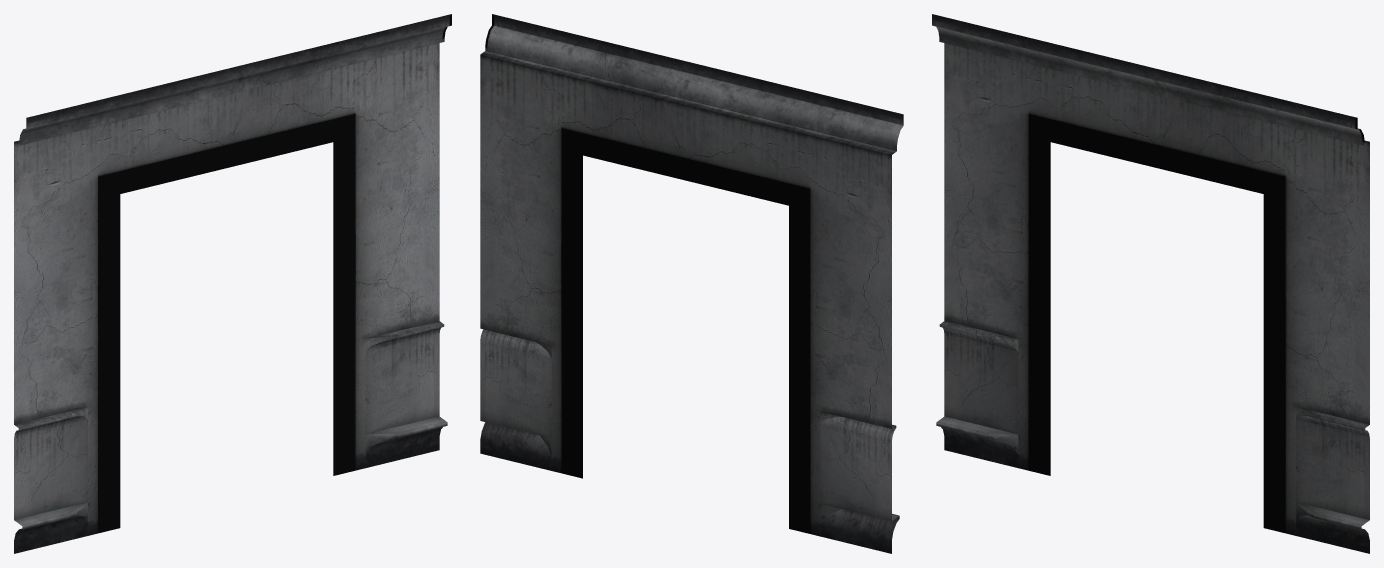
The model's file is door_way_blue.dae.
The picture shows the model from 3 angles, left to right: view 1: azimuth 30°, elevation 25°; view 2: azimuth 150°, elevation 25°; view 3: azimuth 330°, elevation 25°; orthographic projection. The views are drawn at different scales.
Visible parts, largest first — view 1: mansionbase_doorway; view 2: mansionbase_doorway; view 3: mansionbase_doorway.
Boxes of the visible parts, box(x1,y1,x2,y2) form: mansionbase_doorway: box(14, 14, 451, 553); mansionbase_doorway: box(480, 14, 903, 553); mansionbase_doorway: box(932, 14, 1369, 553).
Size of the model in its own units: 4 by 4 by 0.2011.
